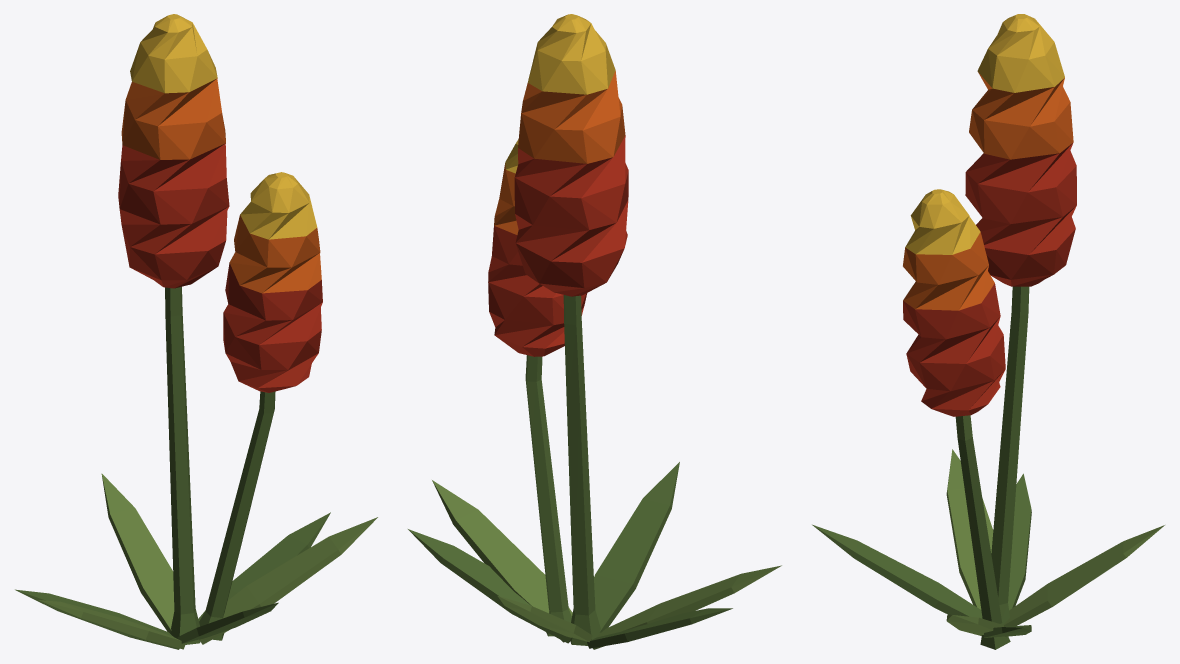
The model's file is firebloom.gltf.
The picture shows the model from 3 angles, left to right: view 1: azimuth 30°, elevation 25°; view 2: azimuth 150°, elevation 25°; view 3: azimuth 270°, elevation 25°; orthographic projection. The views are drawn at different scales.
Parts seen in each view (by area): view 1: firebloom; view 2: firebloom; view 3: firebloom.
Boxes of the visible parts, x1,y1,x2,y2 form: firebloom: (15, 14, 377, 649); firebloom: (408, 14, 781, 649); firebloom: (812, 14, 1164, 649).
Size of the model in its own units: 0.5985 by 1.03 by 0.5402.
